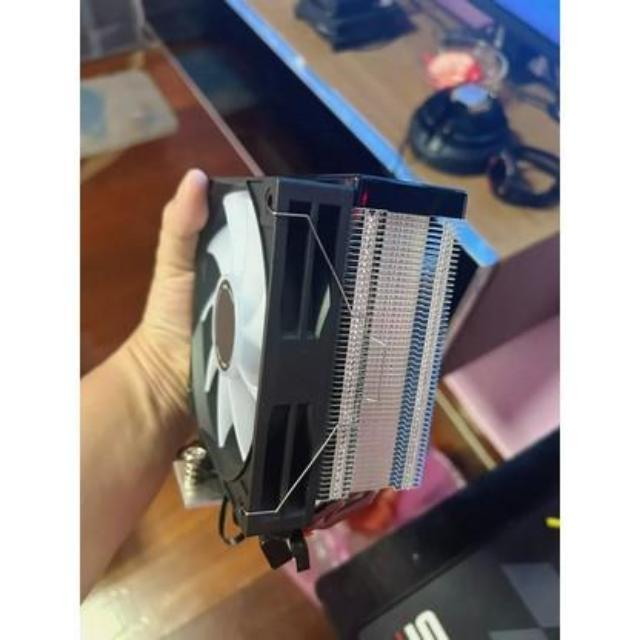CPU_Fan: (185, 162, 467, 556)
